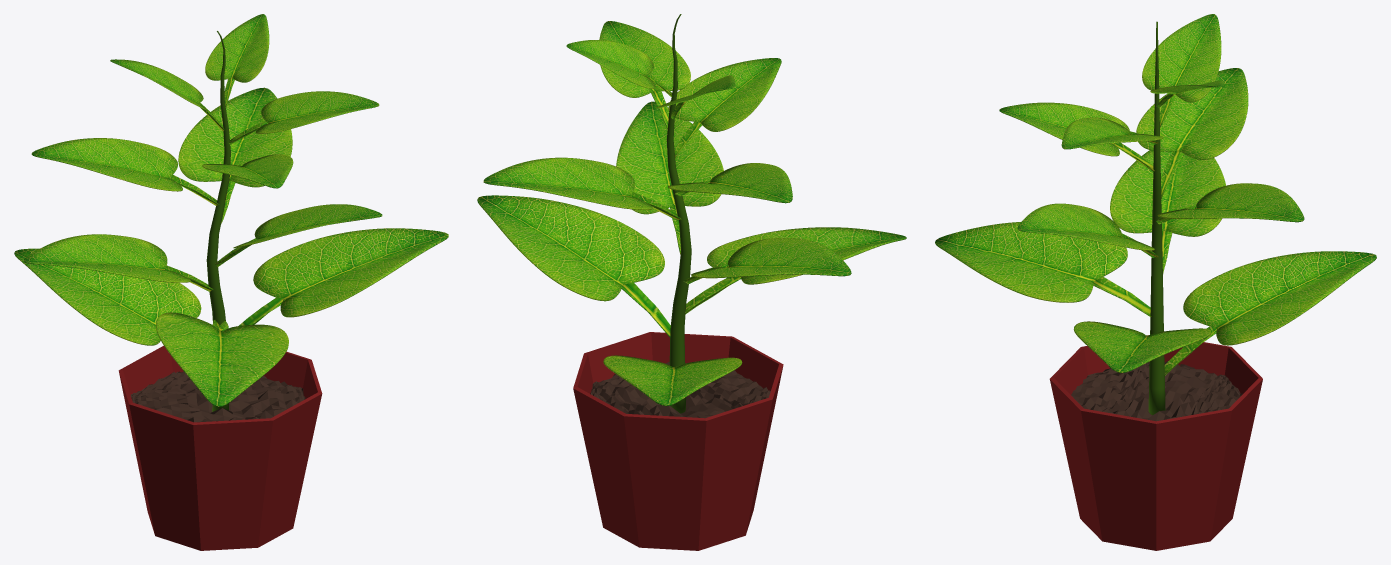
The model's file is flower.glb.
3 renders of one model, left to right at view 1: azimuth 30°, elevation 25°; view 2: azimuth 150°, elevation 25°; view 3: azimuth 270°, elevation 25°, orthographic. The views are drawn at different scales.
Visible parts, largest first — view 1: Soil, Leaves.009, Leaves.000, Leaves.001, Leaves.007, Leaves.005, Leaves.008, Leaves.010, Leaves.011, Leaves.004, FLowerBark, Leaves.006 (+1 smaller); view 2: Soil, Leaves.009, Leaves.004, Leaves.007, Leaves.006, Leaves.008, Leaves.000, Leaves.001, Leaves.010, FLowerBark, Leaves.005, Leaves.011 (+1 smaller); view 3: Soil, Leaves.001, Leaves.000, Leaves.005, Leaves.008, Leaves.012, Leaves.009, Leaves.007, FLowerBark, Leaves.004, Leaves.006, Leaves.010 (+1 smaller).
Boxes of the visible parts, left/top/right/bottom form: Soil: left=118, top=345, right=322, bottom=550; Leaves.009: left=239, top=228, right=448, bottom=325; Leaves.000: left=156, top=312, right=288, bottom=406; Leaves.001: left=14, top=248, right=201, bottom=345; Leaves.007: left=178, top=87, right=292, bottom=223; Leaves.005: left=31, top=138, right=219, bottom=205; Leaves.008: left=23, top=234, right=213, bottom=291; Leaves.010: left=228, top=91, right=379, bottom=144; Leaves.011: left=205, top=14, right=269, bottom=107; Leaves.004: left=215, top=204, right=382, bottom=266; FLowerBark: left=206, top=31, right=230, bottom=411; Leaves.006: left=202, top=154, right=293, bottom=188; Soil: left=573, top=332, right=783, bottom=550; Leaves.009: left=477, top=195, right=670, bottom=337; Leaves.004: left=616, top=101, right=723, bottom=254; Leaves.007: left=483, top=157, right=681, bottom=221; Leaves.006: left=668, top=58, right=781, bottom=157; Leaves.008: left=683, top=238, right=851, bottom=284; Leaves.000: left=685, top=227, right=906, bottom=314; Leaves.001: left=603, top=355, right=742, bottom=406; Leaves.010: left=599, top=21, right=690, bottom=128; FLowerBark: left=666, top=14, right=691, bottom=413; Leaves.005: left=668, top=163, right=792, bottom=203; Leaves.011: left=566, top=40, right=672, bottom=97; Soil: left=1049, top=335, right=1262, bottom=550; Leaves.001: left=1164, top=251, right=1376, bottom=375; Leaves.000: left=935, top=222, right=1151, bottom=316; Leaves.005: left=1136, top=68, right=1248, bottom=198; Leaves.008: left=1110, top=150, right=1225, bottom=273; Leaves.012: left=1142, top=14, right=1221, bottom=127; Leaves.009: left=1073, top=321, right=1210, bottom=373; Leaves.007: left=1156, top=183, right=1304, bottom=224; FLowerBark: left=1148, top=21, right=1165, bottom=414; Leaves.004: left=1017, top=203, right=1158, bottom=257; Leaves.006: left=999, top=102, right=1154, bottom=172; Leaves.010: left=1061, top=117, right=1163, bottom=149.
Size of the model in its own units: 2.03 by 2.42 by 1.96.
Materials: 4 (1 with a texture image).
